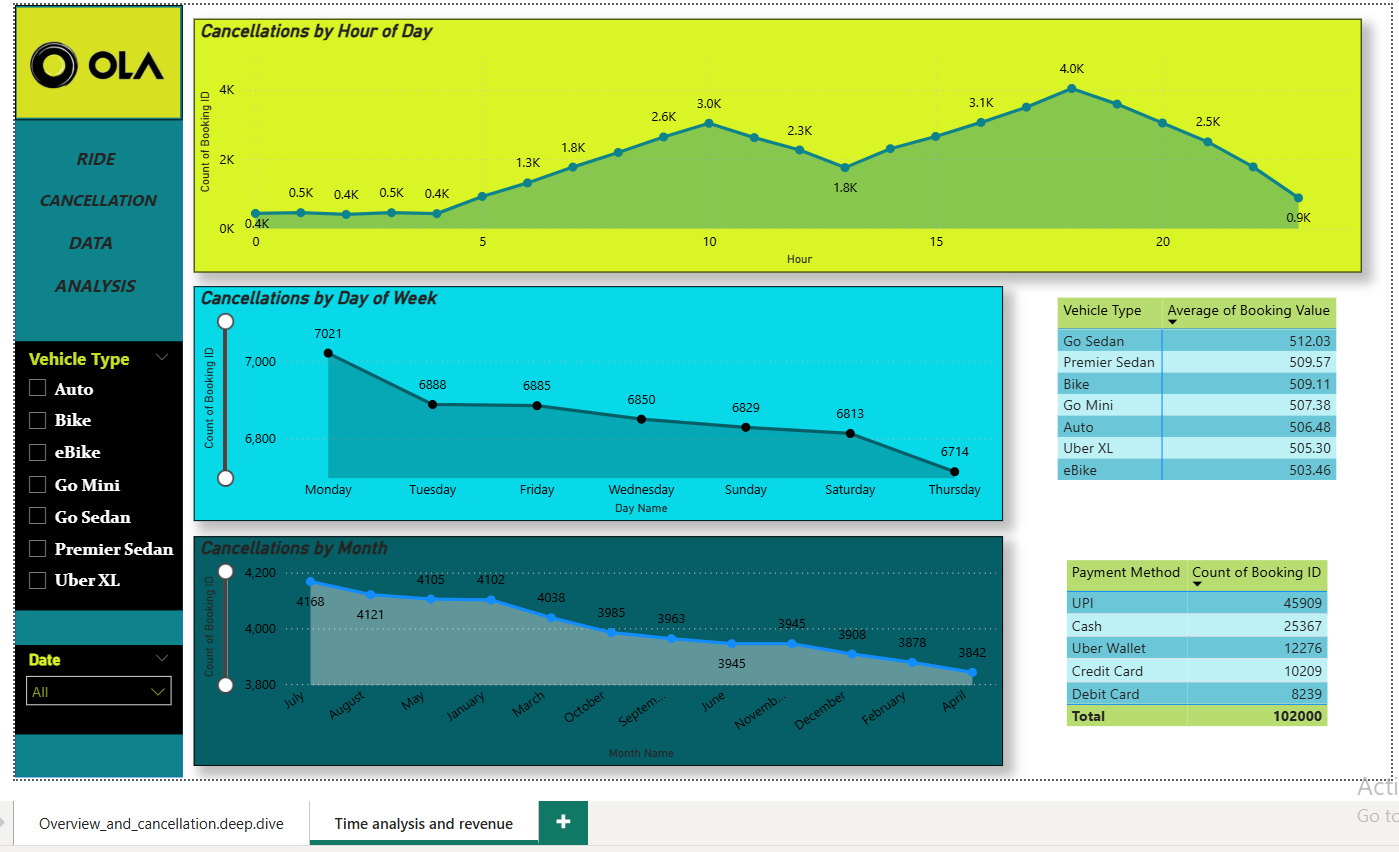

What the dashboard file says about the page in this screenshot:
{"tool":"powerbi","page":{"name":"Time analysis and revenue","canvas":[1280,720],"ordinal":1},"visuals":[{"type":"shape","box":[0,0,156.2,718.8],"z":0},{"type":"lineChart","title":"Cancellations by Month","fields":{"Category":["ncr_ride_bookings.Month Name"],"Y":["CountNonNull(ncr_ride_bookings.Booking ID)"]},"box":[166.2,493.8,752.5,213.8],"z":1000},{"type":"lineChart","title":"Cancellations by Hour of Day","fields":{"Category":["ncr_ride_bookings.Hour"],"Y":["CountNonNull(ncr_ride_bookings.Booking ID)"]},"box":[166.2,12.5,1086.2,236.2],"z":2000},{"type":"lineChart","title":"Cancellations by Day of Week","fields":{"Category":["ncr_ride_bookings.Day Name"],"Y":["CountNonNull(ncr_ride_bookings.Booking ID)"]},"box":[166.7,260.7,752.4,219],"z":3000},{"type":"image","box":[0,0,155.7,107.1],"z":4000},{"type":"textbox","box":[8.8,126.2,137.5,160],"z":5000},{"type":"slicer","fields":{"Values":["ncr_ride_bookings.Vehicle Type"]},"box":[0,312.9,155.7,250],"z":6000},{"type":"slicer","fields":{"Values":["ncr_ride_bookings.Date"]},"box":[0,595.7,155.7,82.9],"z":7000},{"type":"pivotTable","title":"Average Booking Value by Vehicle Type","fields":{"Rows":["ncr_ride_bookings.Vehicle Type"],"Values":["Avg(ncr_ride_bookings.Booking Value)"]},"box":[965,267.5,287.5,202.5],"z":8000},{"type":"tableEx","fields":{"Values":["ncr_ride_bookings.Payment Method","CountNonNull(ncr_ride_bookings.Booking ID)"]},"box":[972.5,511.2,261.2,178.8],"z":9000}]}

Visuals, with their boxes in screenshot pixels (x1, y1, x2, y2):
shape: 11 0 179 775
"Cancellations by Month" lineChart: 190 532 1001 763
"Cancellations by Hour of Day" lineChart: 190 13 1361 268
"Cancellations by Day of Week" lineChart: 191 281 1002 517
image: 11 0 179 115
textbox: 20 136 169 308
slicer - ncr_ride_bookings.Vehicle Type: 11 337 179 607
slicer - ncr_ride_bookings.Date: 11 642 179 731
"Average Booking Value by Vehicle Type" pivotTable: 1051 288 1361 507
tableEx - ncr_ride_bookings.Payment Method x CountNonNull(ncr_ride_bookings.Booking ID): 1059 551 1341 744
